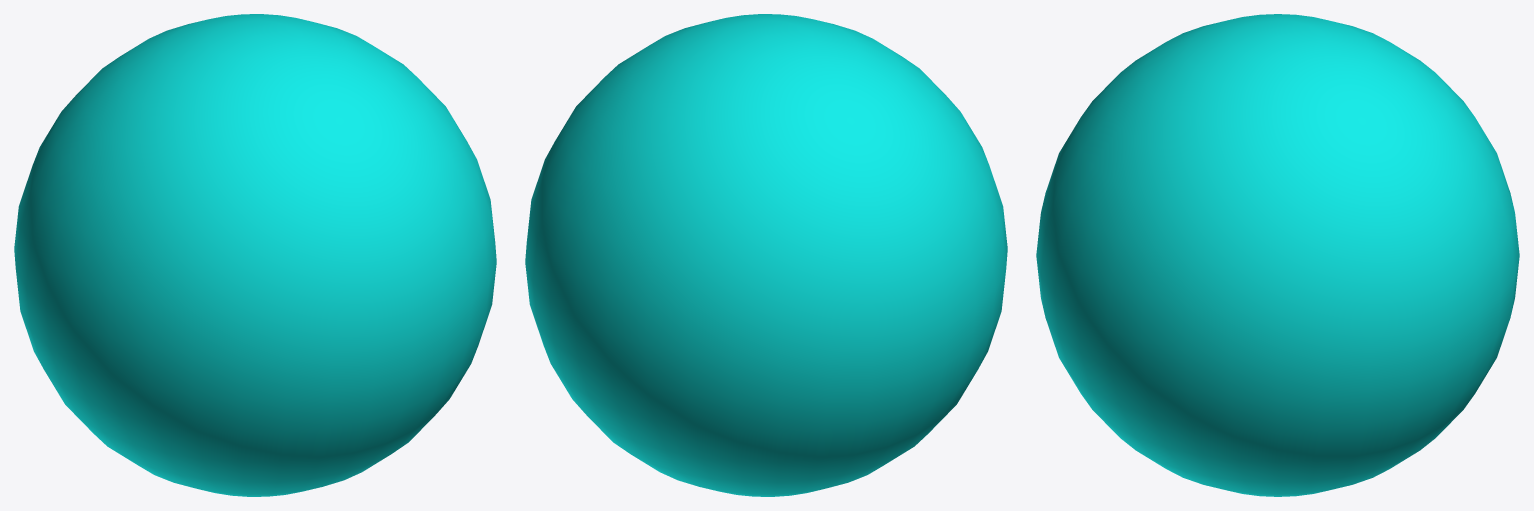
Rendered from 04-heart.fbx.
3 renders of one model, left to right at view 1: azimuth 30°, elevation 25°; view 2: azimuth 150°, elevation 25°; view 3: azimuth 270°, elevation 25°, orthographic.
Parts seen in each view (by area): view 1: Sphere; view 2: Sphere; view 3: Sphere.
Boxes of the visible parts, x1,y1,x2,y2 form: Sphere: [14, 14, 496, 496]; Sphere: [525, 14, 1007, 496]; Sphere: [1036, 14, 1519, 496].
Size of the model in its own units: 93.64 by 93.64 by 93.64.
